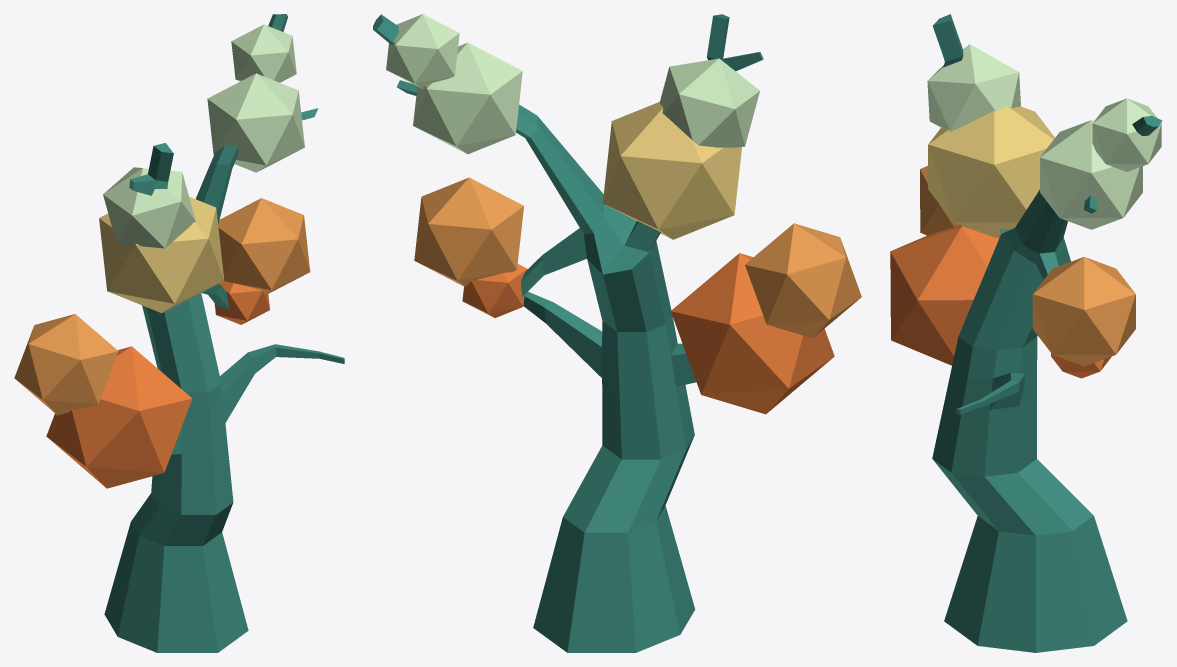
Rendered from 01_04Tree_Orange.fbx.
3 views of the same model, side by side, from view 1: azimuth 30°, elevation 25°; view 2: azimuth 150°, elevation 25°; view 3: azimuth 270°, elevation 25° (orthographic). The views are drawn at different scales.
Parts seen in each view (by area): view 1: Cube.014; view 2: Cube.014; view 3: Cube.014.
Boxes of the visible parts, <box> form: Cube.014: <box>14,14,344,652</box>; Cube.014: <box>373,14,861,652</box>; Cube.014: <box>890,14,1162,652</box>.
Bounding box in the file's own units: 168 × 251 × 104.
